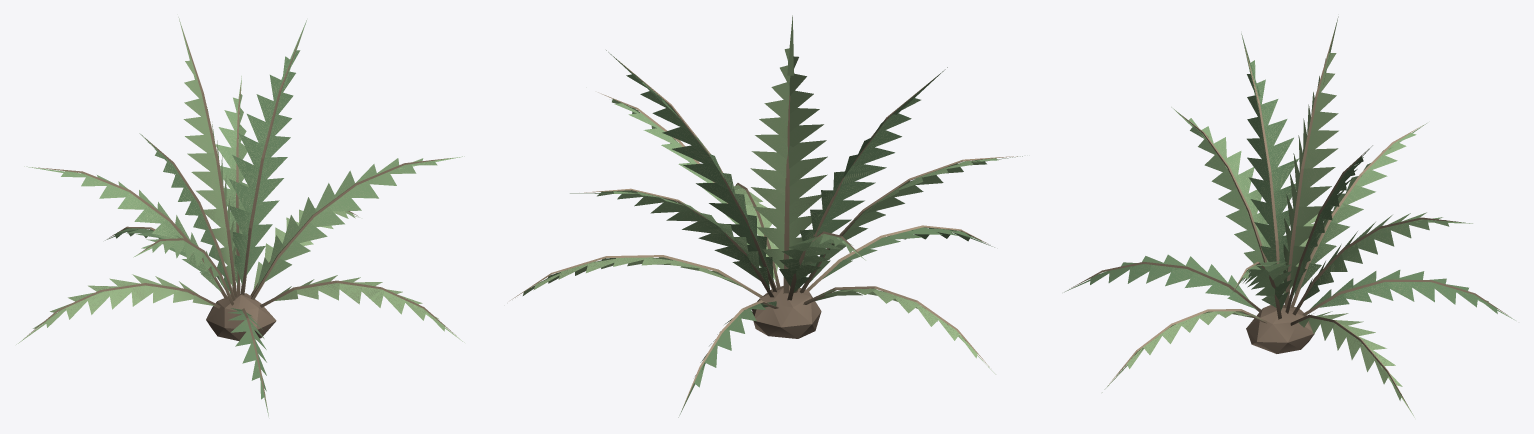
File: fern.glb
3 views of the same model, side by side, from view 1: azimuth 30°, elevation 25°; view 2: azimuth 150°, elevation 25°; view 3: azimuth 270°, elevation 25° (orthographic). The views are drawn at different scales.
Visible parts, largest first — view 1: fern; view 2: fern; view 3: fern.
Boxes of the visible parts, x1,y1,x2,y2 form: fern: (16, 17, 464, 416); fern: (510, 15, 1022, 417); fern: (1064, 16, 1515, 417).
Size of the model in its own units: 1.73 by 1.23 by 1.65.
